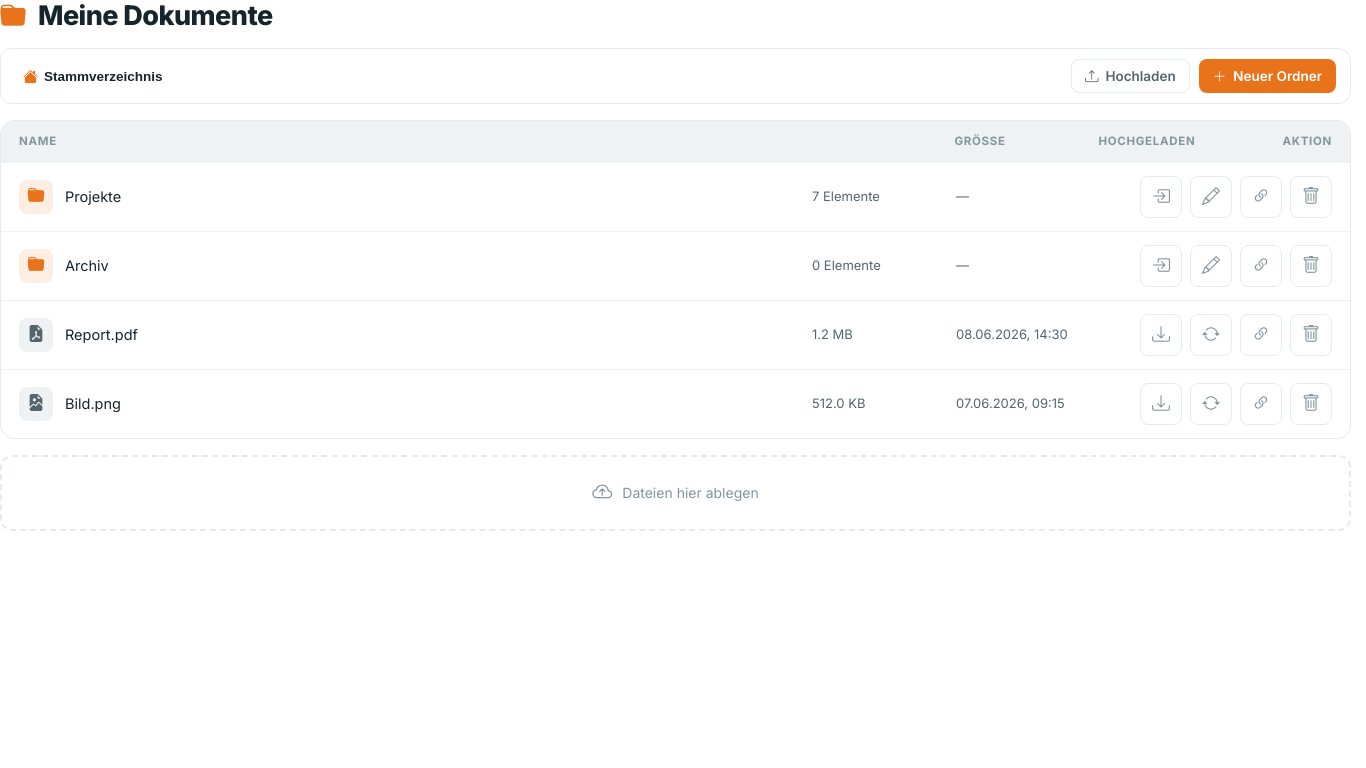
Test: PortalDocuments › Datei löschen (Szenario 22-25) › Given Datei, When Löschen geklickt, Then ConfirmDialog geöffnet
Check: the text "Report.pdf" is shown, box [65,323,138,346]
What coordinates should you click on to do the following:
click the button titled "Löschen" in the row of "08.06.2026, 14:30"
I would click on:
 (1311, 335)
Its box is [1290,314,1332,356].
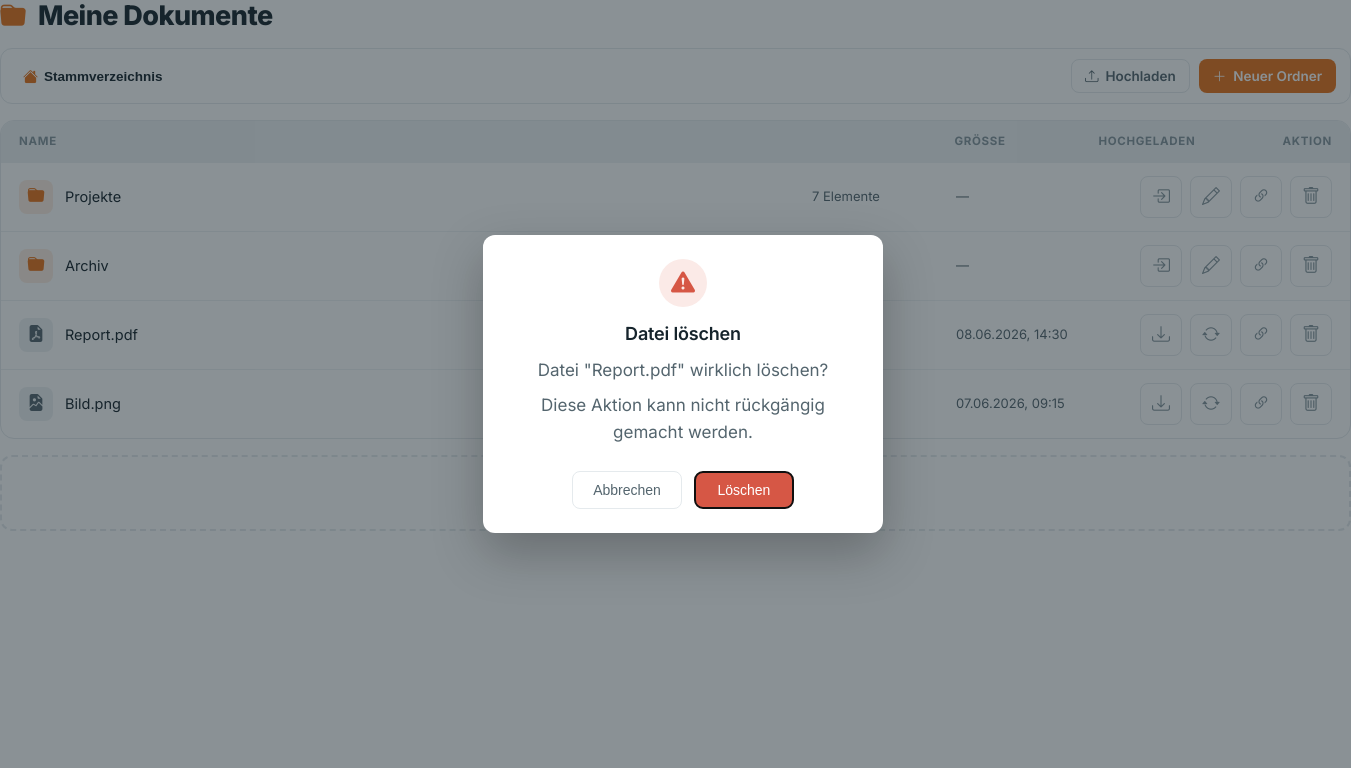
Check: the dialog is shown, box [483,235,883,533]
Check: the heading "Datei löschen" is shown, box [625,323,741,344]
Check: the text "Datei \"Report.pdf\" wirklich löschen?" is shown, box [538,360,828,380]
